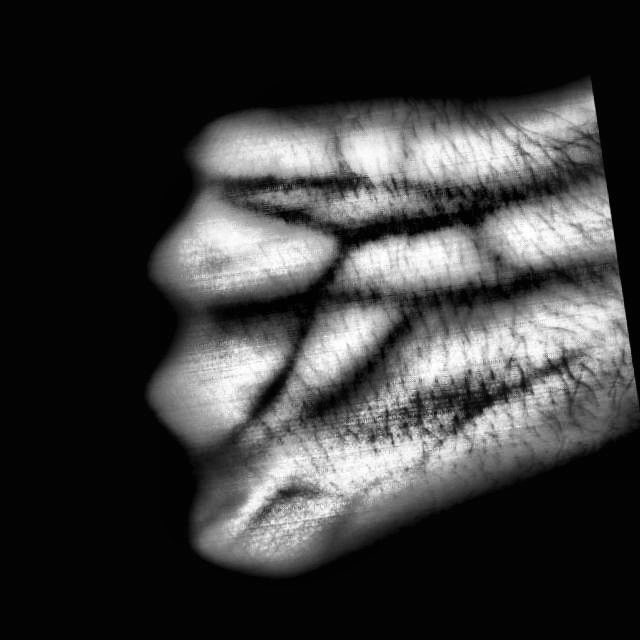Vein: (359, 160, 583, 250), (376, 262, 585, 308)
